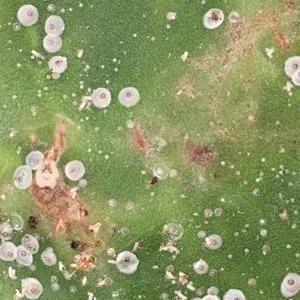Femea: (118, 252, 134, 271), (46, 16, 60, 35), (66, 160, 80, 178), (93, 88, 107, 105), (21, 5, 34, 22), (1, 243, 14, 260), (24, 282, 39, 296), (283, 275, 297, 290), (121, 88, 136, 101), (44, 35, 58, 48), (15, 168, 26, 184), (286, 58, 299, 71), (15, 247, 28, 260), (193, 260, 207, 271), (0, 225, 12, 237), (208, 237, 221, 245)
Linfa: (254, 170, 264, 183), (75, 47, 83, 58), (284, 242, 292, 250), (77, 80, 83, 89), (259, 229, 268, 235), (219, 158, 225, 166), (259, 218, 265, 226), (226, 253, 233, 259), (96, 147, 103, 153), (104, 154, 110, 160), (219, 195, 224, 202), (229, 162, 234, 169), (261, 156, 265, 164), (69, 92, 77, 96), (235, 169, 240, 175), (270, 166, 276, 171), (278, 163, 283, 169), (86, 148, 91, 153), (278, 170, 283, 174)
Macho: (281, 78, 291, 91), (175, 289, 188, 299), (186, 280, 196, 292), (179, 50, 188, 62), (131, 240, 139, 253), (80, 272, 88, 285), (55, 258, 63, 271), (67, 185, 80, 193), (86, 289, 96, 299), (33, 46, 45, 54), (105, 258, 118, 265), (83, 99, 89, 111), (80, 95, 92, 100)
